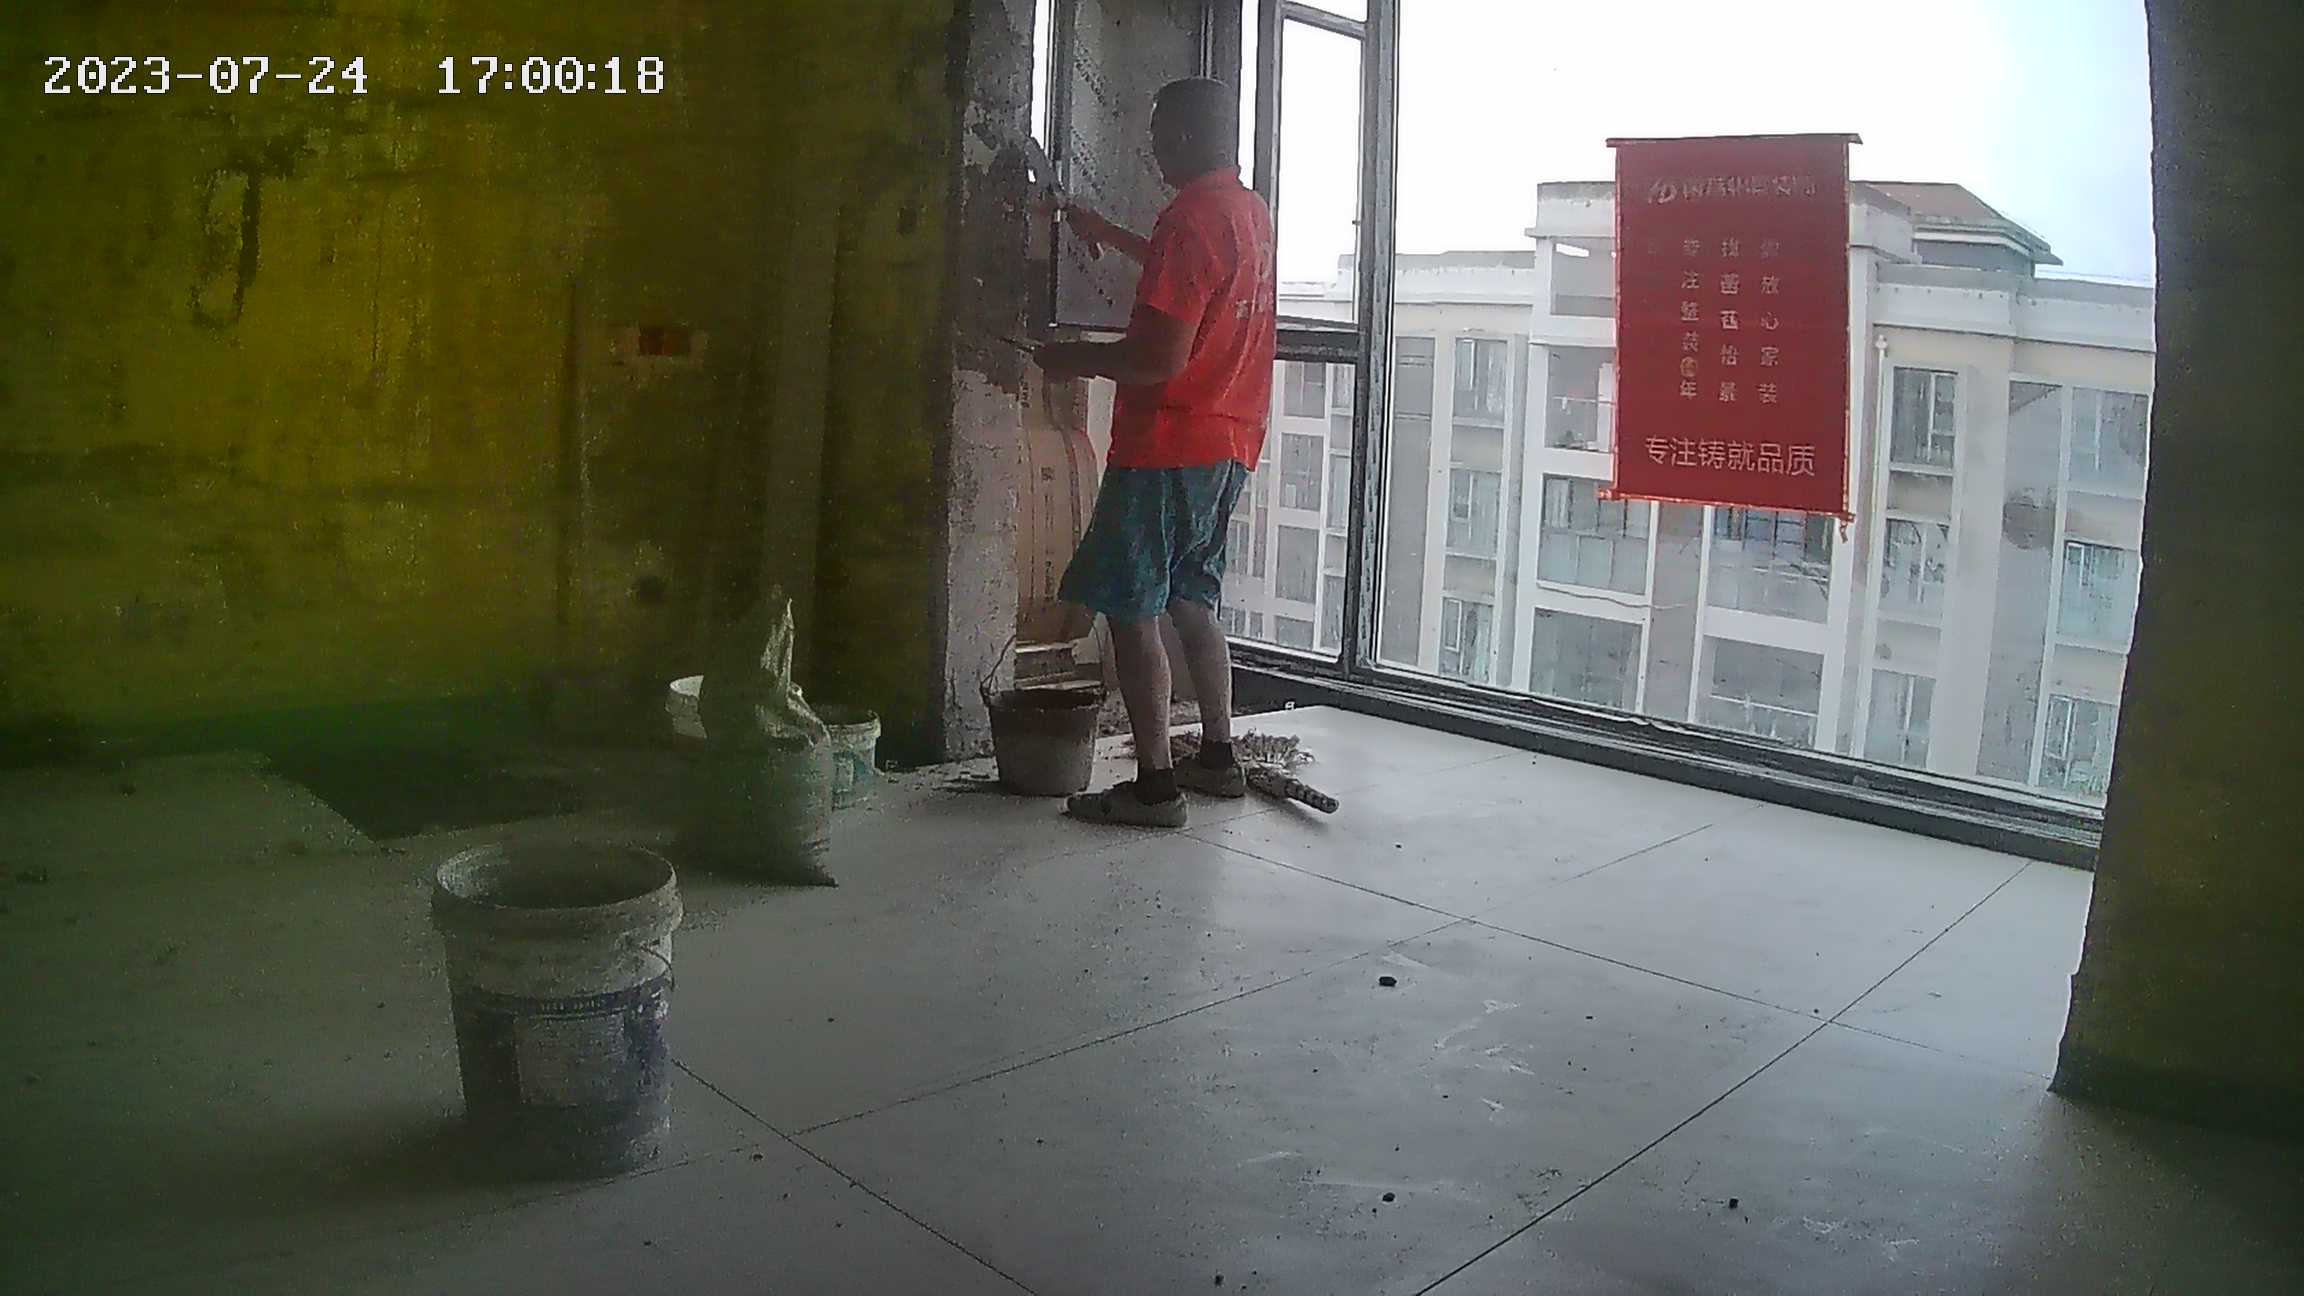people: (1028, 75, 1275, 833)
window: (1034, 3, 2148, 835)
